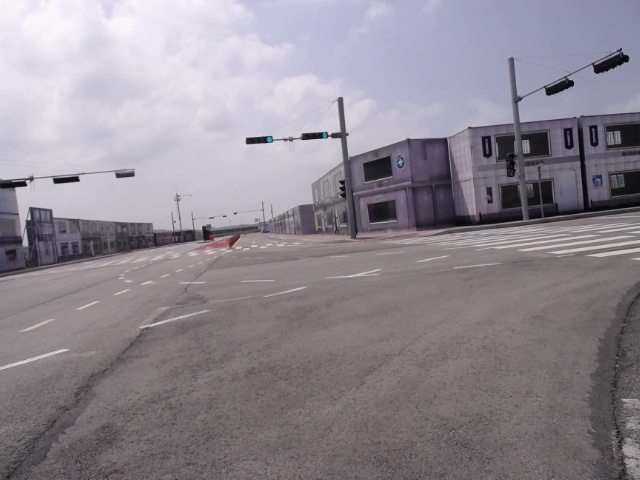straight_green_4: (247, 136, 274, 146), (302, 131, 327, 141)
